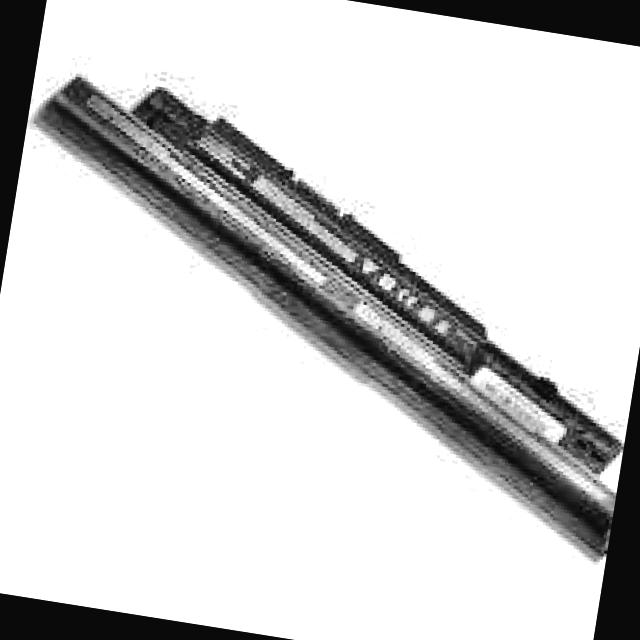Battery: (0, 67, 640, 572)
